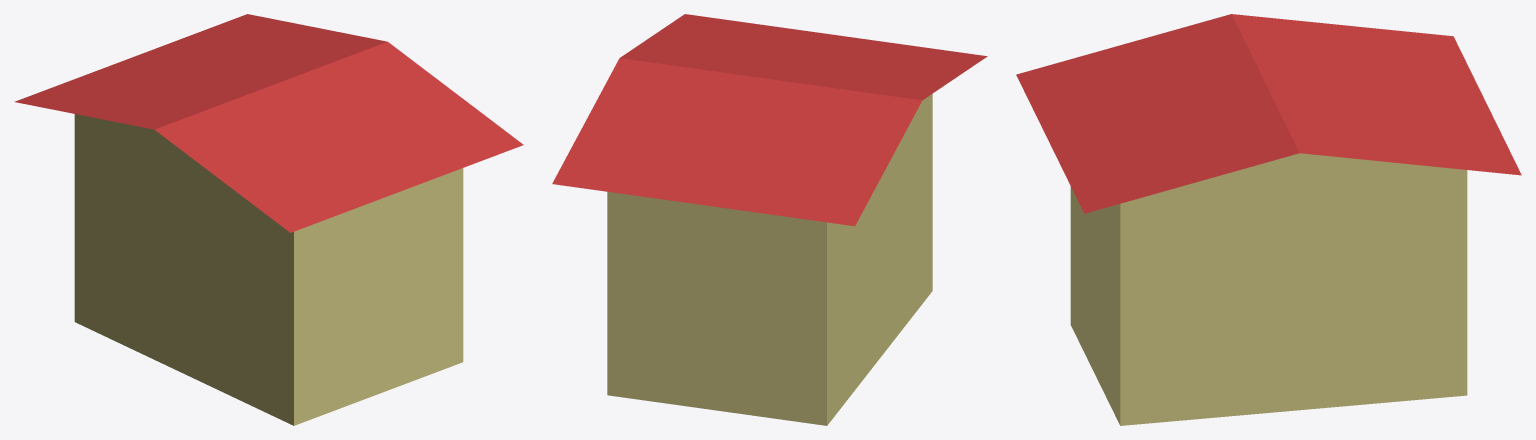
3 renders of one model, left to right at view 1: azimuth 30°, elevation 25°; view 2: azimuth 150°, elevation 25°; view 3: azimuth 270°, elevation 25°, orthographic. The views are drawn at different scales.
Bounding box in the file's own units: 9.09 × 10.94 × 6.61.
